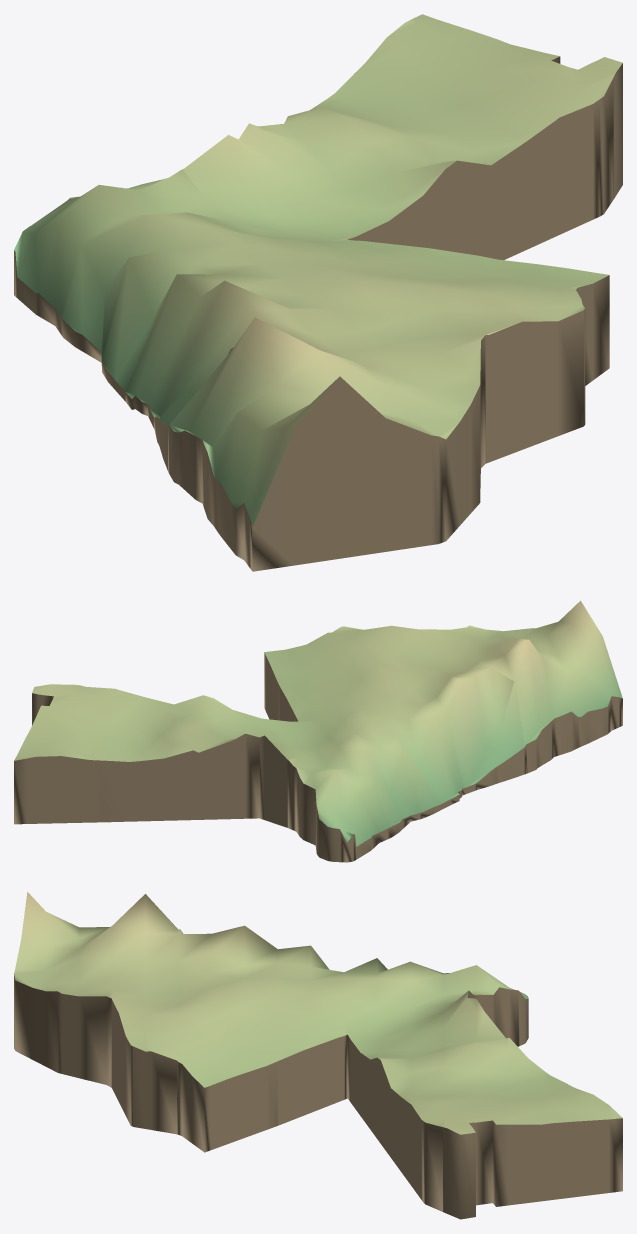
Rendered from JOR.glb.
3 renders of one model, top to bottom at view 1: azimuth 30°, elevation 25°; view 2: azimuth 150°, elevation 25°; view 3: azimuth 270°, elevation 25°, orthographic. The views are drawn at different scales.
Parts seen in each view (by area): view 1: JOR; view 2: JOR; view 3: JOR.
Part boxes in pixels (x1,y1,x2,y2): JOR: (14, 14, 622, 571); JOR: (14, 600, 622, 862); JOR: (14, 892, 622, 1219).
Bounding box in the file's own units: 1.31 × 0.338 × 1.47.
